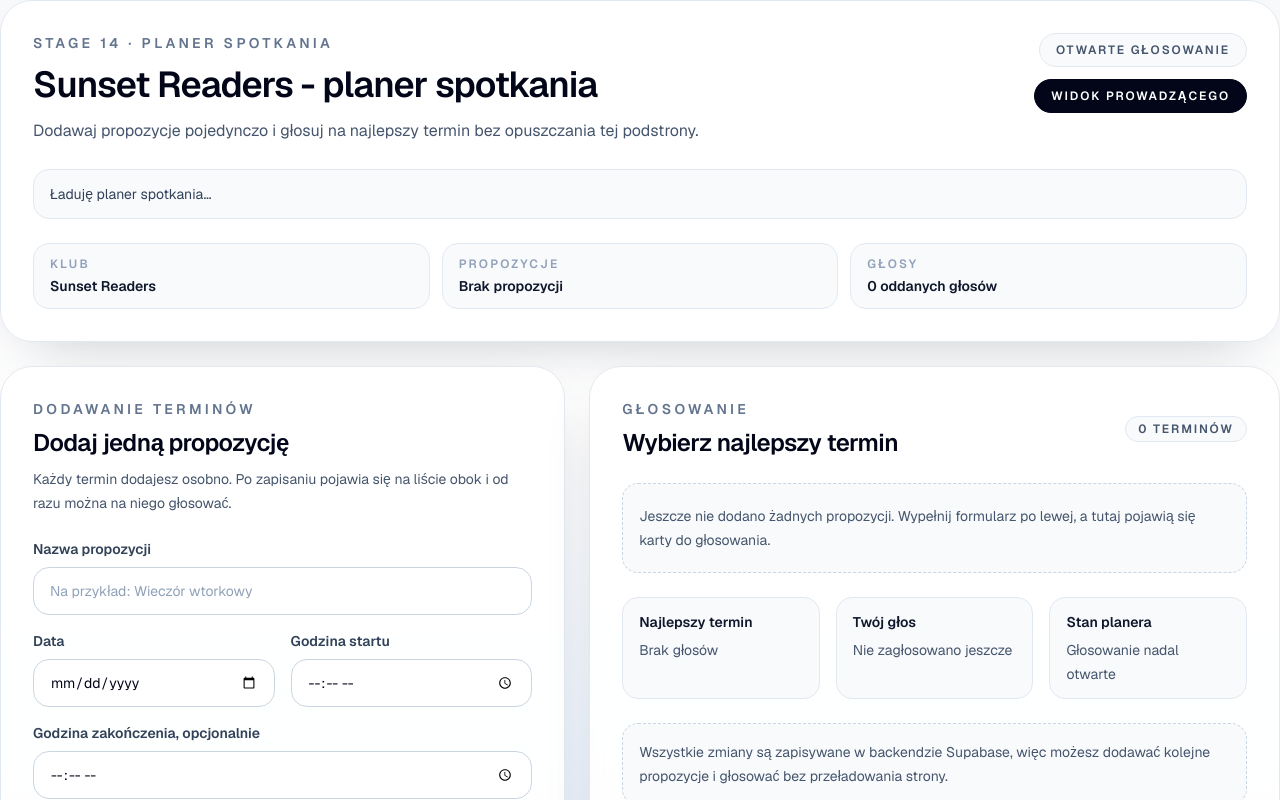
Test: MeetingPlannerWorkspace › adds a single slot through the backend
Type "Wtorkowy wieczór" into the field labelled "Nazwa propozycji". click: (283, 591)
box: left=33, top=567, right=532, bottom=615
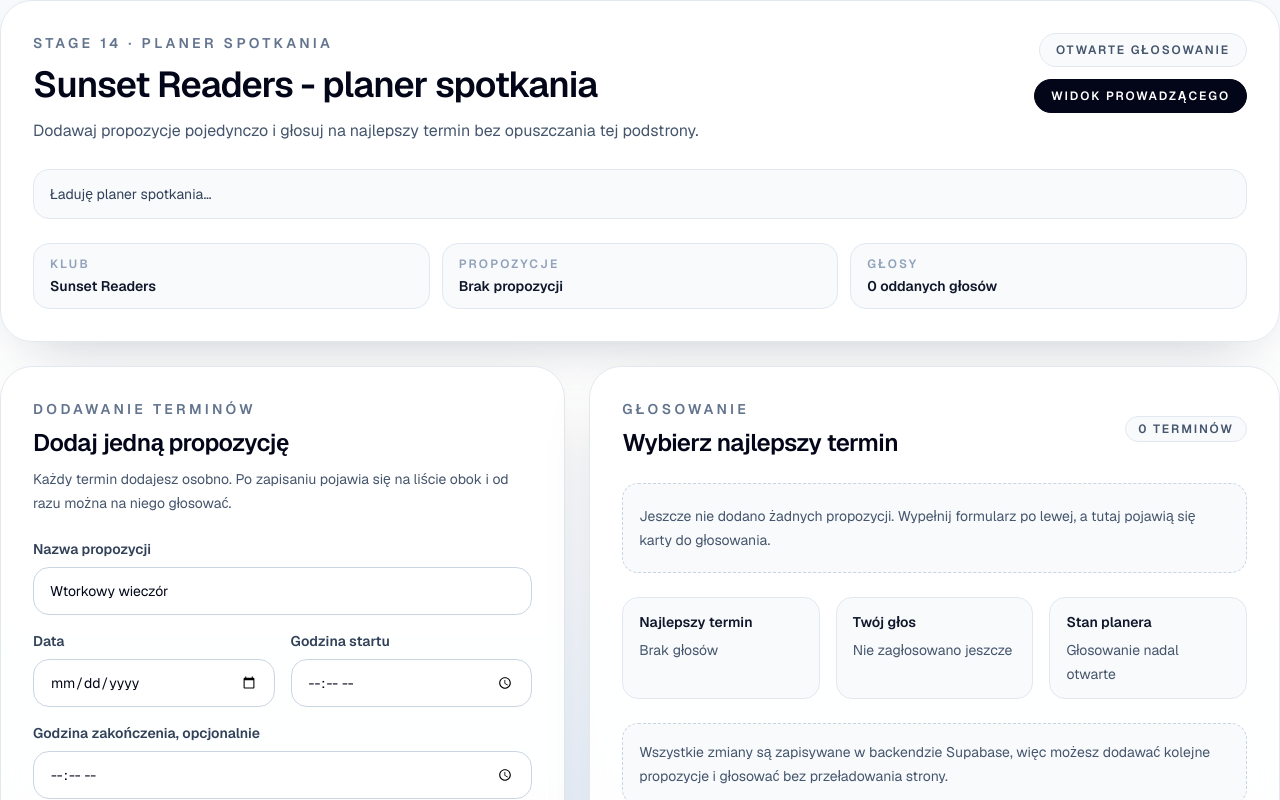
Type "2026-06-12" into the date field labelled "Data". click: (154, 683)
box: left=33, top=659, right=275, bottom=707
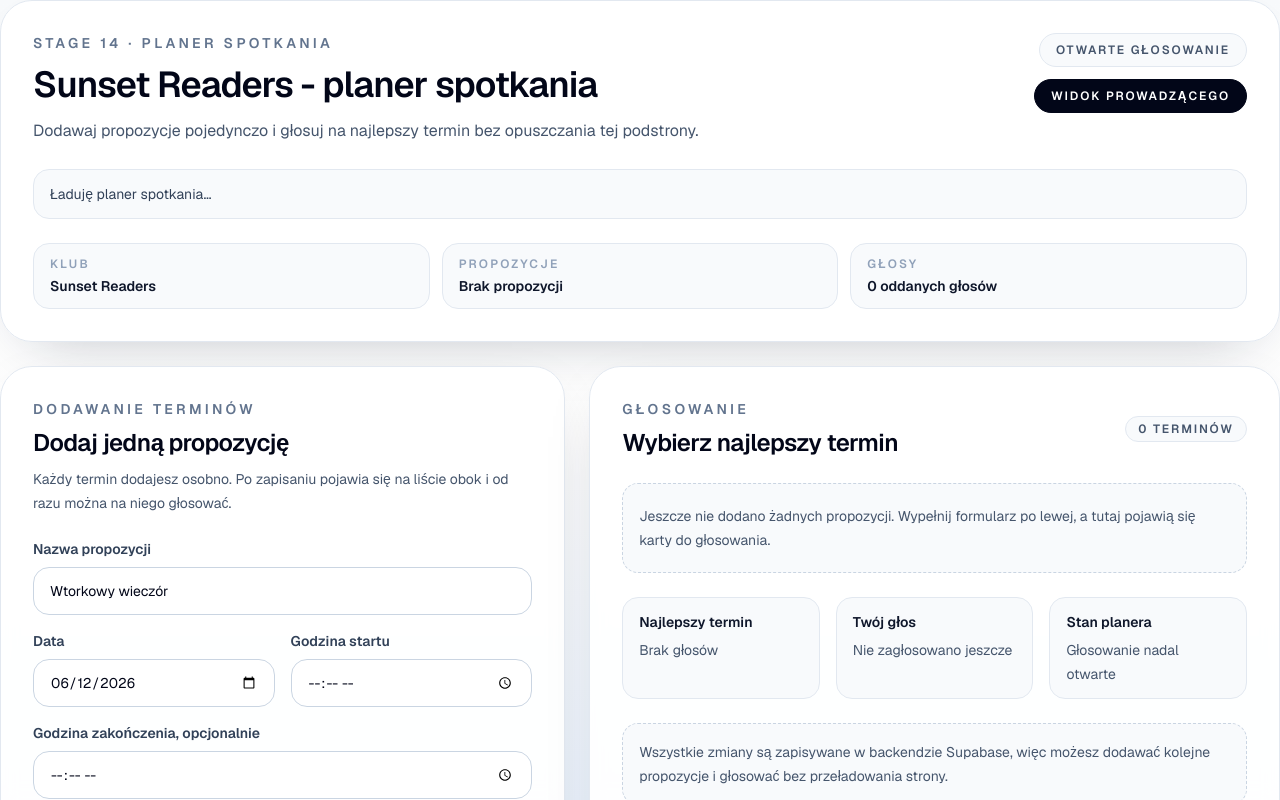
Type "18:30" into the time field labelled "Godzina startu". click: (411, 683)
box: left=291, top=659, right=532, bottom=707
(page scrolled)
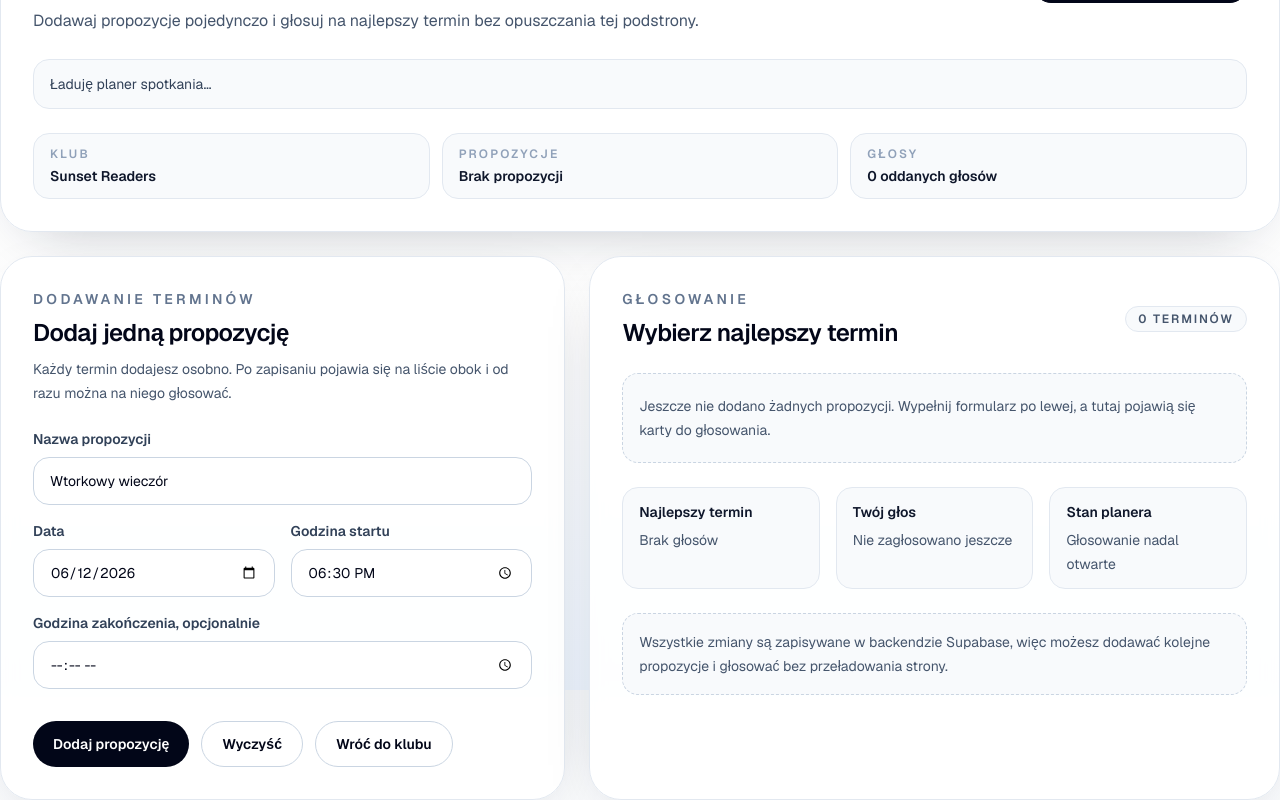
Click the button "Dodaj propozycję". click: (111, 744)
box: left=33, top=721, right=189, bottom=767
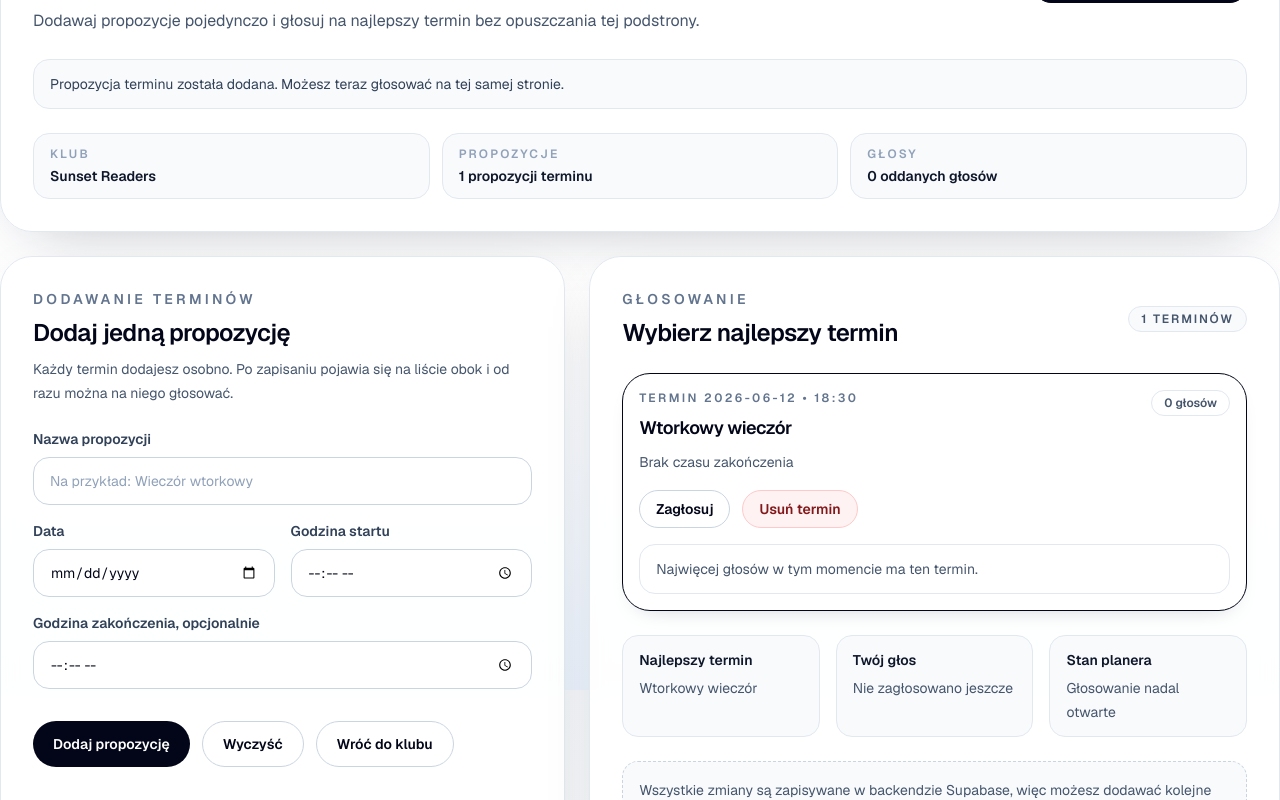
Now the text "Propozycja terminu została dodana. Możesz teraz głosować na tej samej stronie." is shown, box left=33, top=59, right=1247, bottom=109
Now the heading "Wtorkowy wieczór" is shown, box left=639, top=416, right=792, bottom=439
